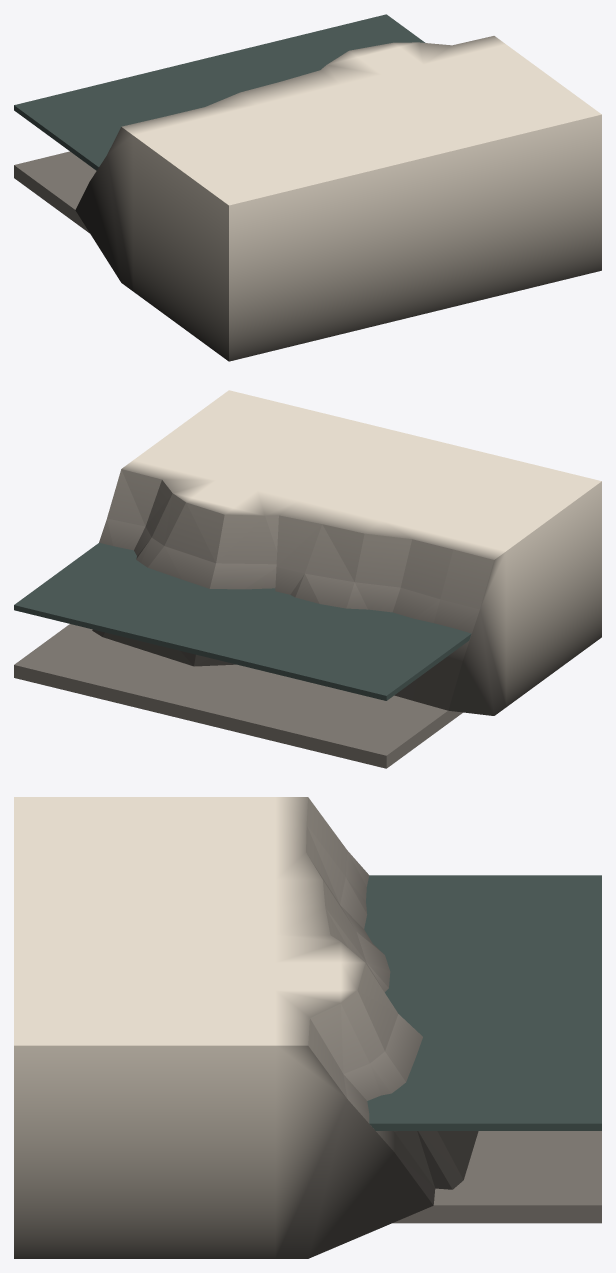
Rendered from SM_VKI_Ground_Stream_OOXX_Q11.fbx.
3 views of the same model, one above another, from view 1: azimuth 30°, elevation 25°; view 2: azimuth 150°, elevation 25°; view 3: azimuth 270°, elevation 25° (orthographic). The views are drawn at different scales.
Parts seen in each view (by area): view 1: SM_VKI_Ground_Stream_OOXX_Q11.001; view 2: SM_VKI_Ground_Stream_OOXX_Q11.001; view 3: SM_VKI_Ground_Stream_OOXX_Q11.001.
Part boxes in pixels (x1,y1,x2,y2): SM_VKI_Ground_Stream_OOXX_Q11.001: (14, 14, 601, 361); SM_VKI_Ground_Stream_OOXX_Q11.001: (14, 390, 601, 768); SM_VKI_Ground_Stream_OOXX_Q11.001: (14, 797, 601, 1258).
Size of the model in its own units: 1.5 by 0.6 by 1.5.
